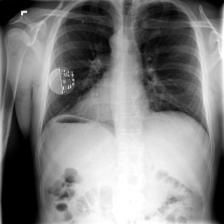normal: (35, 0, 211, 154)
